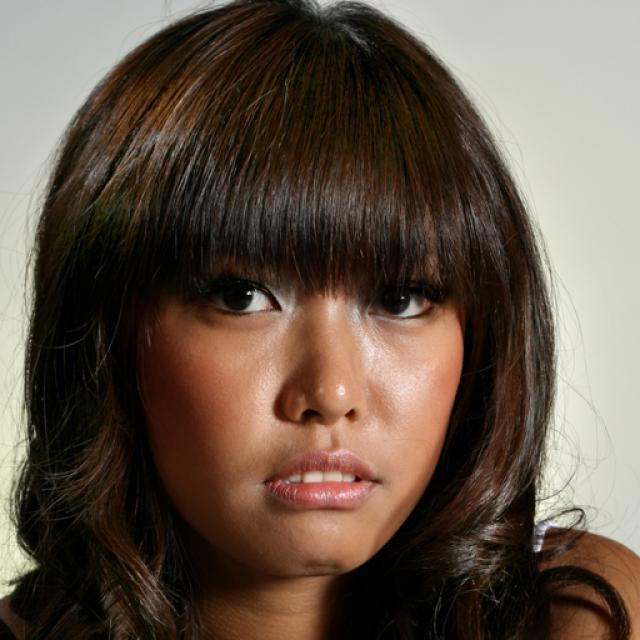0_rostro_limpio: (135, 0, 468, 573)
